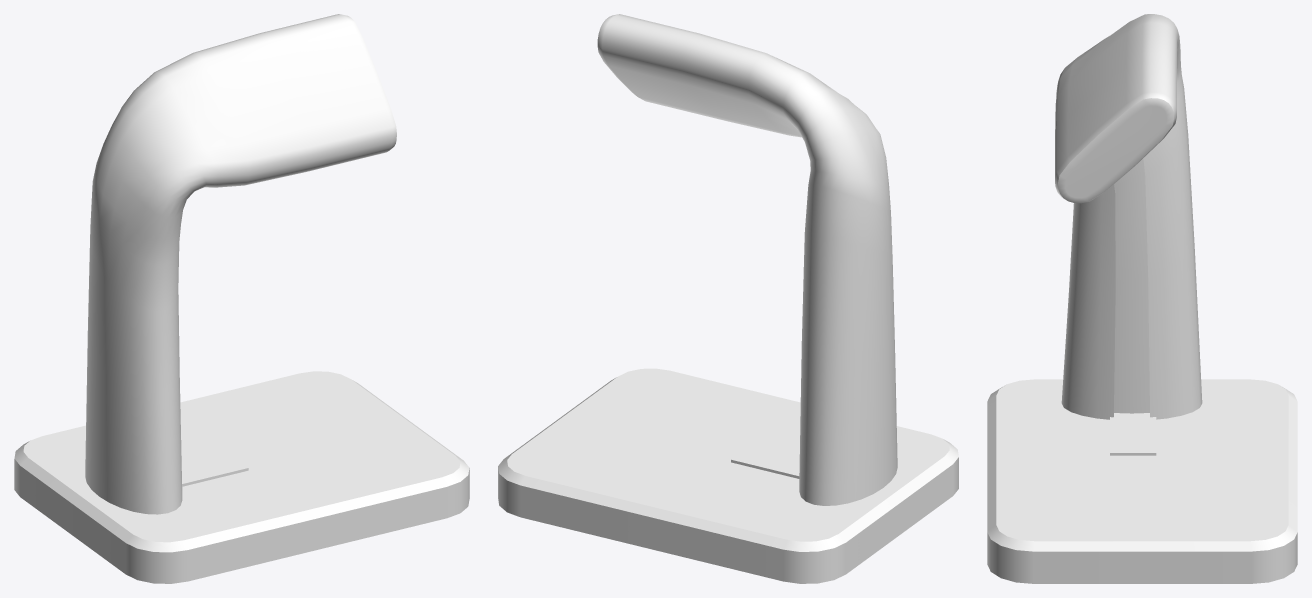
Rendered from iwatch_stand 1.fbx.
The picture shows the model from 3 angles, left to right: view 1: azimuth 30°, elevation 25°; view 2: azimuth 150°, elevation 25°; view 3: azimuth 270°, elevation 25°; orthographic projection. The views are drawn at different scales.
Visible parts, largest first — view 1: pCube1; view 2: pCube1; view 3: pCube1.
Part boxes in pixels (x1,y1,x2,y2): pCube1: (14,14,469,583); pCube1: (498,14,958,583); pCube1: (987,14,1297,583).
Size of the model in its own units: 35.44 by 44.94 by 27.43.
